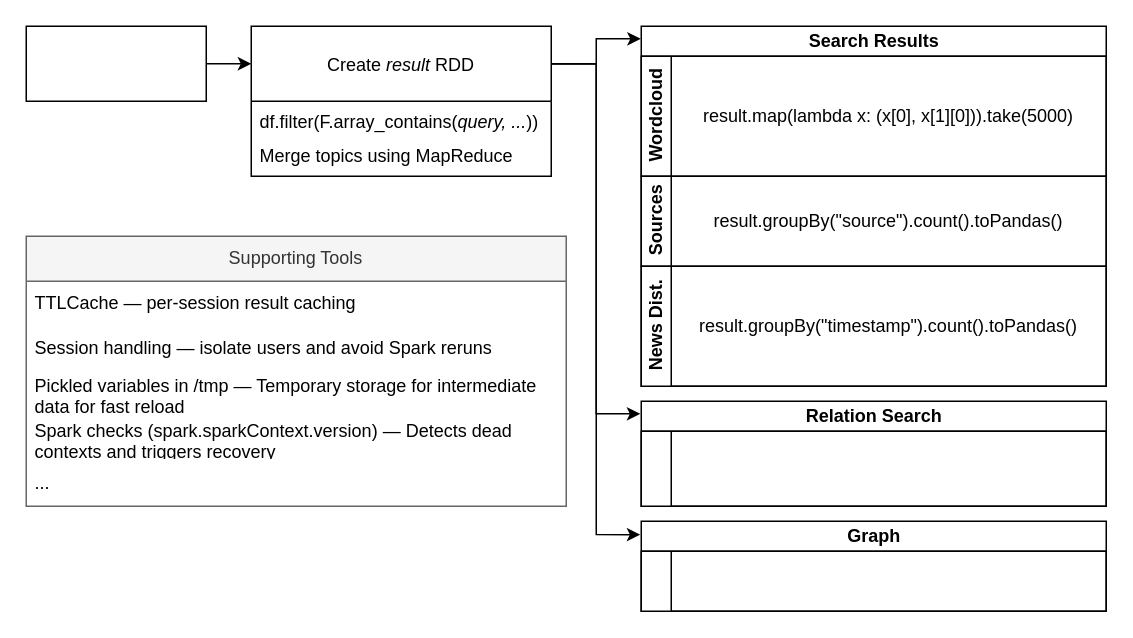
This 1133x638 diagram has some shape labels left out. The shapes that lost their labels are listed below. From the top down, each one's centre as x and y in pixels, then its label:
pixel 115 63: User Query
pixel 873 468: result \ .filter(lambda x: standardize_keyword(x[0]) ...) \ .collect()
pixel 873 580: result.top(125, key=lambda x: x[1][0])
